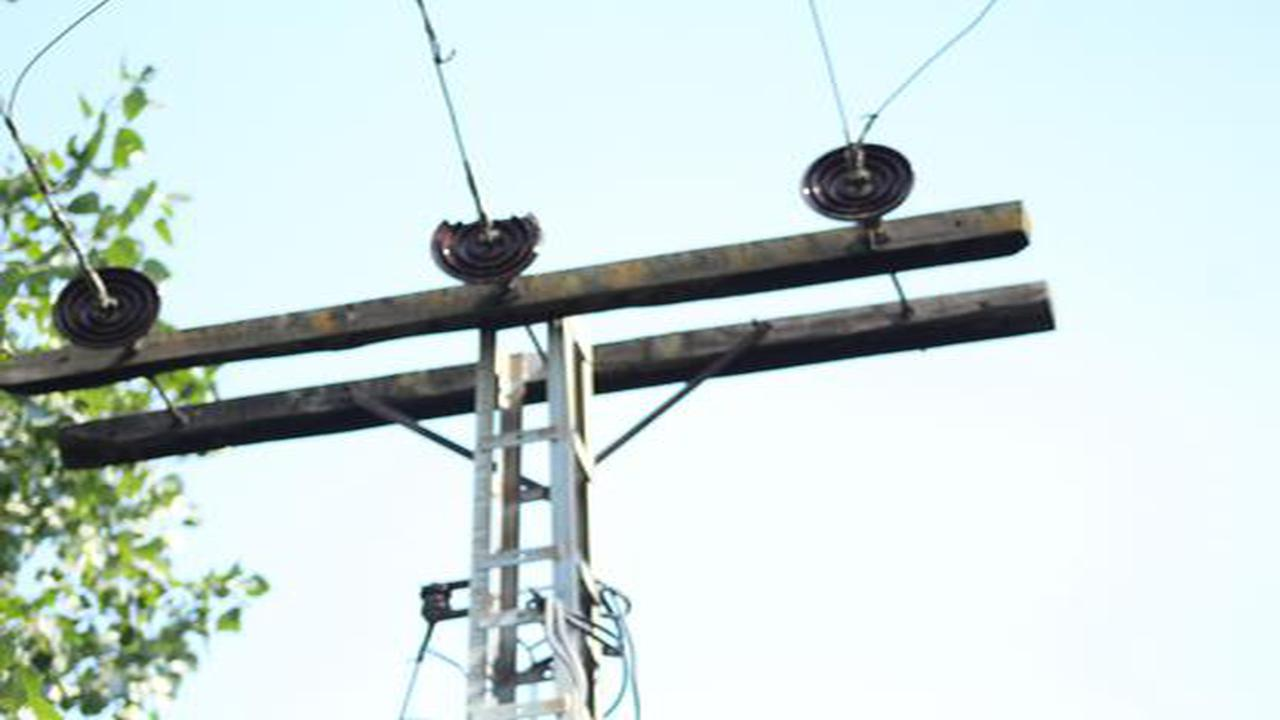defect_disc: (430, 208, 546, 283)
insulator_disc: (799, 141, 916, 222), (51, 262, 164, 343)
